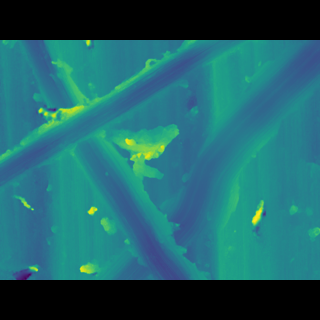Loch: (93, 70, 320, 251), (16, 69, 212, 249), (0, 67, 250, 182)
